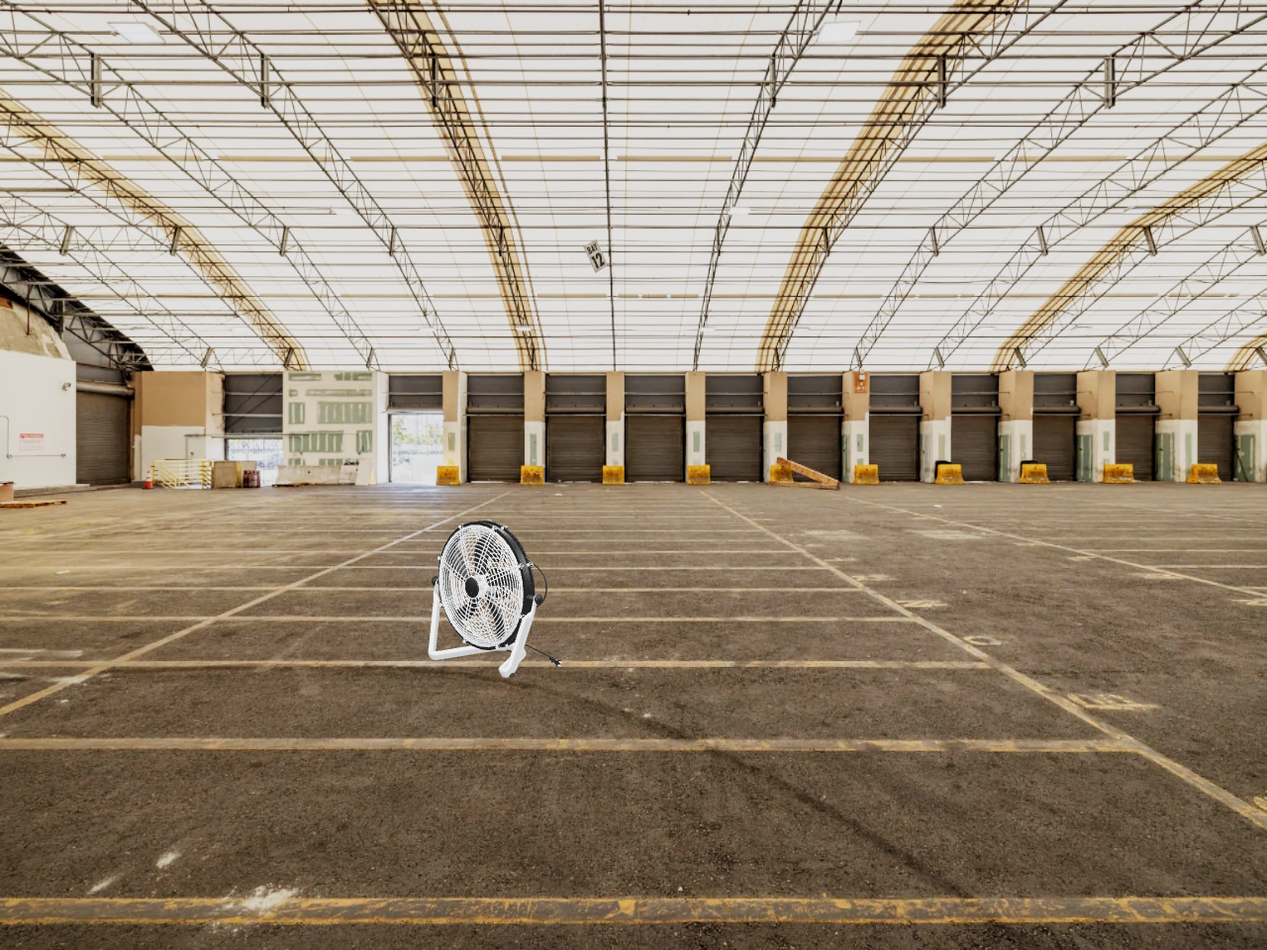FanSanati: (428, 521, 562, 678)
